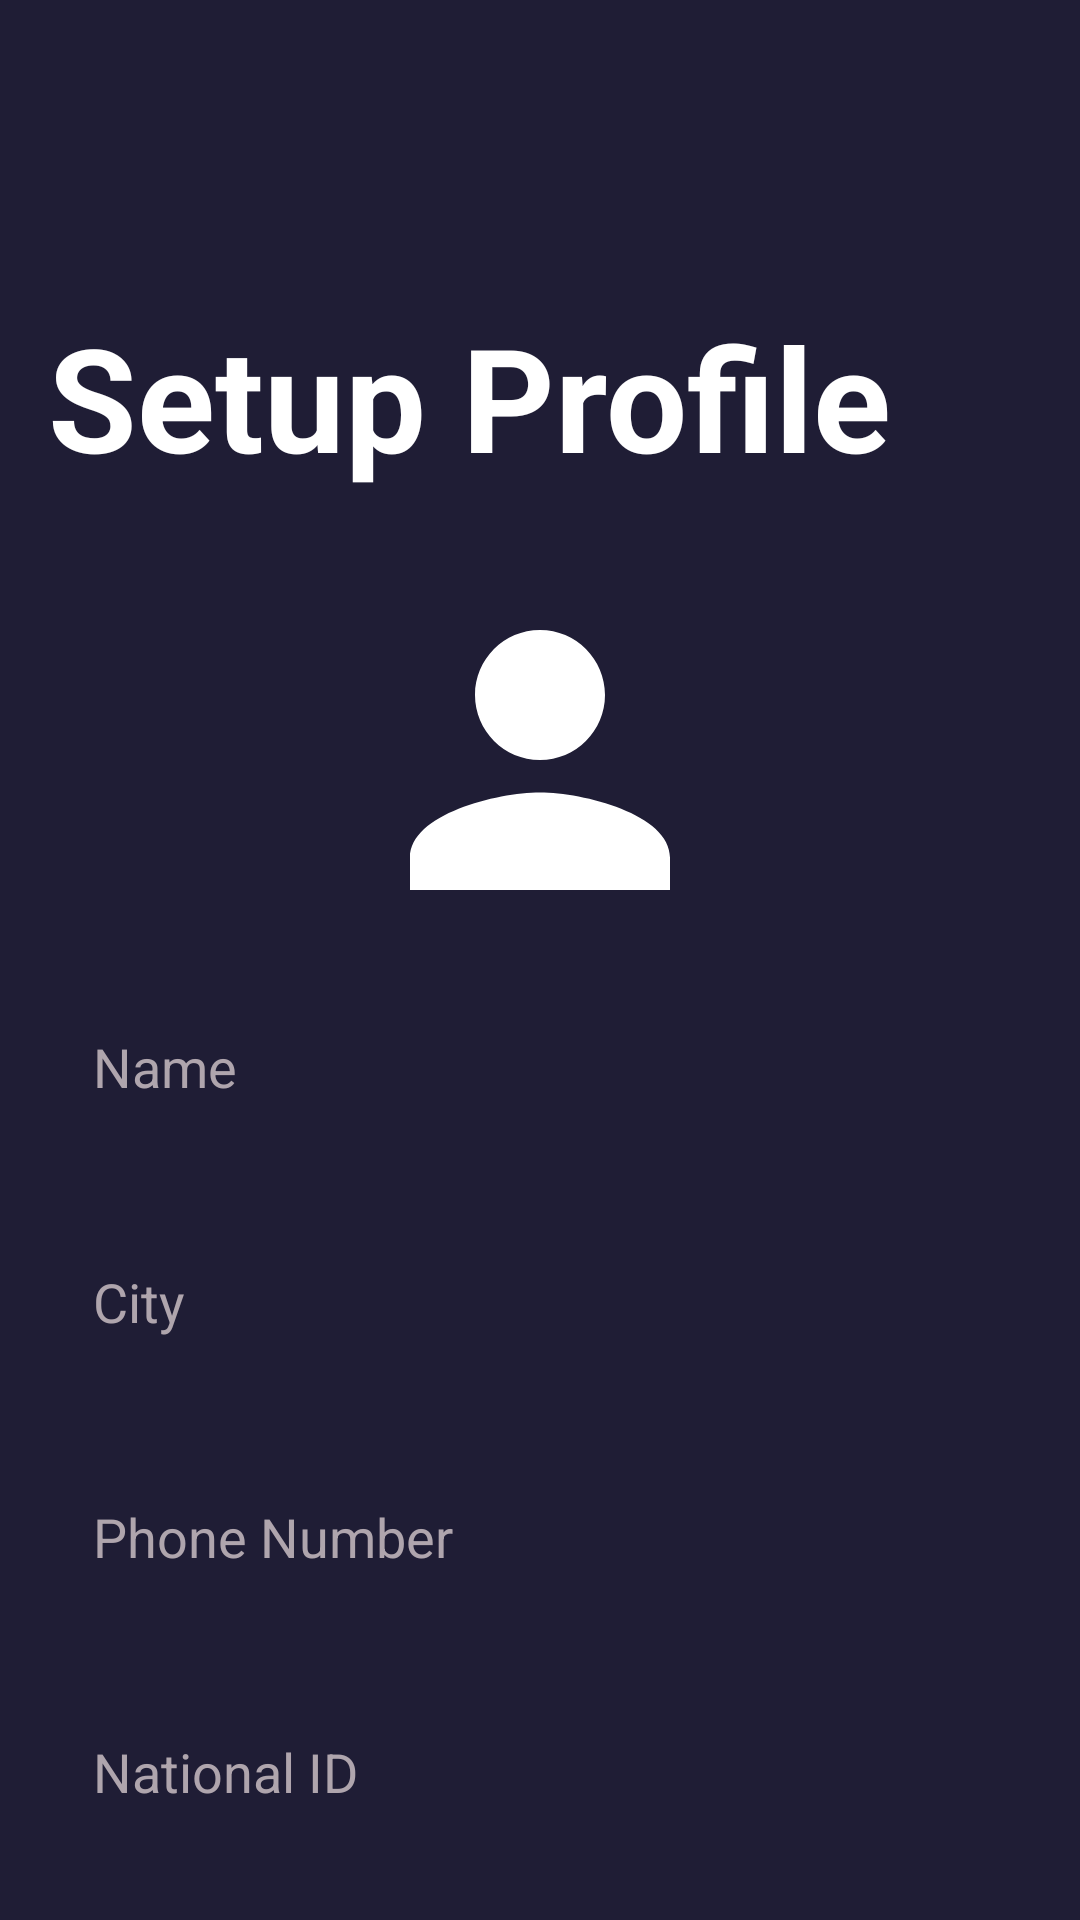

Locate icon controls on the screen. Image size 1080×1920, boxes as region(x1, y1, x2, y2).
person: region(410, 630, 670, 890)
